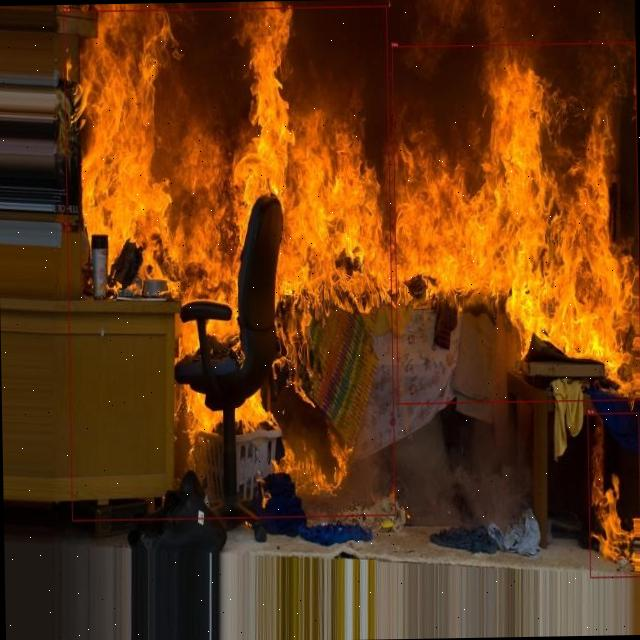fire: (62, 4, 396, 520), (391, 41, 640, 403), (586, 412, 640, 578)
